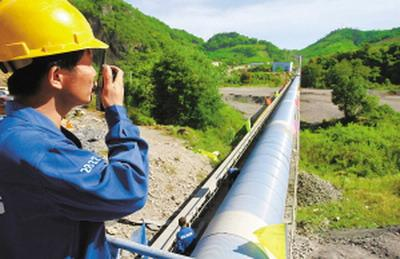helmet: (1, 1, 113, 109)
